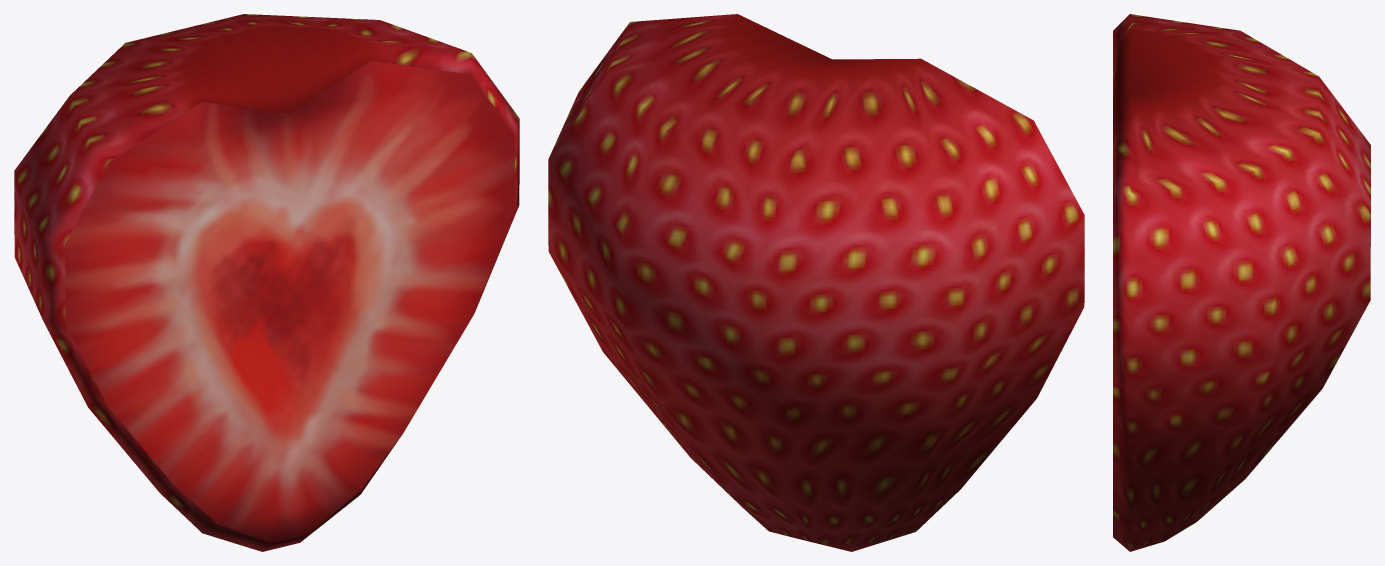
Rendered from Strawberry_Half.fbx.
3 renders of one model, left to right at view 1: azimuth 30°, elevation 25°; view 2: azimuth 150°, elevation 25°; view 3: azimuth 270°, elevation 25°, orthographic. The views are drawn at different scales.
Visible parts, largest first — view 1: Strawberry_Half; view 2: Strawberry_Half; view 3: Strawberry_Half.
Boxes of the visible parts, box(x1,y1,x2,y2) form: Strawberry_Half: box(14, 14, 519, 551); Strawberry_Half: box(548, 14, 1084, 551); Strawberry_Half: box(1113, 14, 1370, 551).
Size of the model in its own units: 17.9 by 17.32 by 8.58.
